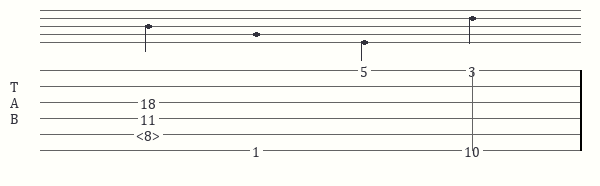1: (252, 143, 264, 157)
10: (464, 143, 484, 157)
11: (140, 111, 160, 125)
18: (140, 95, 160, 109)
3: (468, 63, 480, 77)
5: (360, 63, 372, 78)
harmonic: (136, 127, 164, 141)
